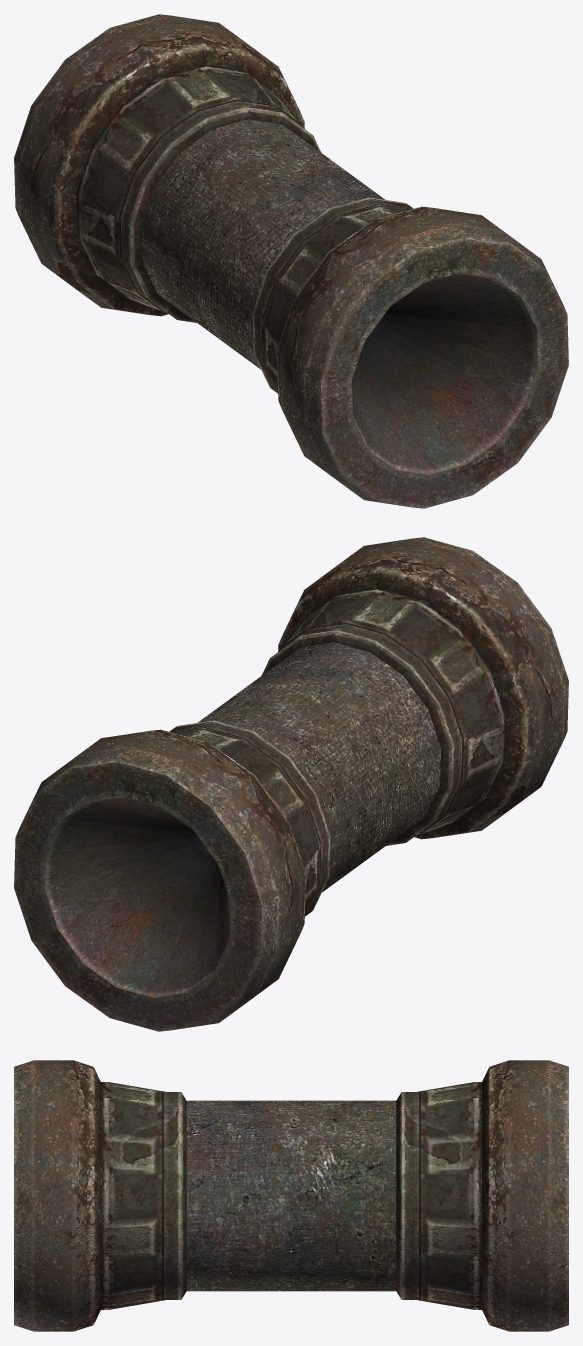
Rendered from pipe_large_tiny_pplant.dae.
The picture shows the model from 3 angles, top to bottom: view 1: azimuth 30°, elevation 25°; view 2: azimuth 150°, elevation 25°; view 3: azimuth 270°, elevation 25°; orthographic projection. The views are drawn at different scales.
Parts seen in each view (by area): view 1: pipe_large_short_pplant; view 2: pipe_large_short_pplant; view 3: pipe_large_short_pplant.
Part boxes in pixels (box(x1,y1,x2,y2)): pipe_large_short_pplant: box(14, 14, 568, 508); pipe_large_short_pplant: box(14, 537, 568, 1031); pipe_large_short_pplant: box(14, 1060, 568, 1331).
Bounding box in the file's own units: 0.4907 × 0.4907 × 1.
